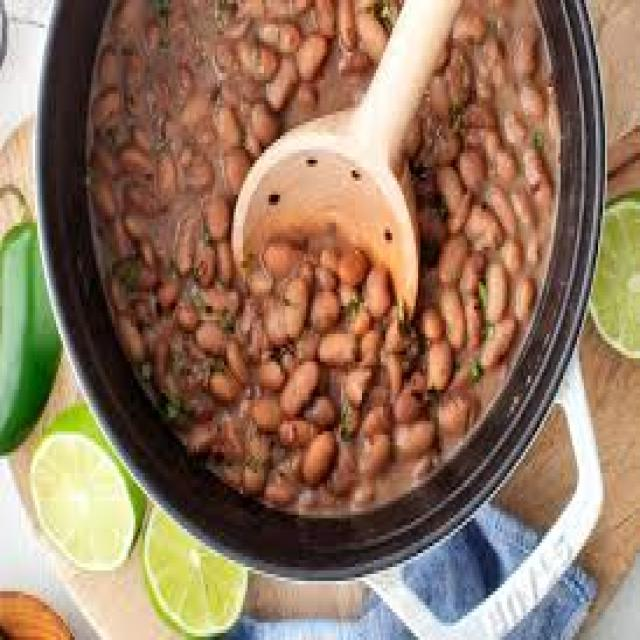Beans: (134, 198, 446, 482)
